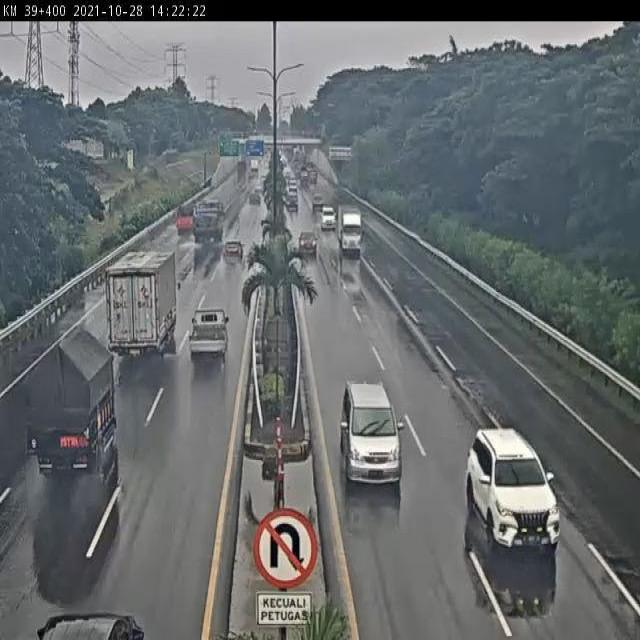big truck: (108, 251, 183, 368)
car: (456, 424, 566, 561), (339, 364, 413, 501), (30, 604, 144, 640), (188, 302, 228, 350), (297, 229, 318, 260), (284, 187, 306, 212), (224, 239, 243, 265), (320, 203, 334, 232), (249, 186, 262, 206)
small truck: (23, 327, 122, 484), (193, 198, 223, 242), (337, 207, 363, 257), (176, 203, 196, 233)
